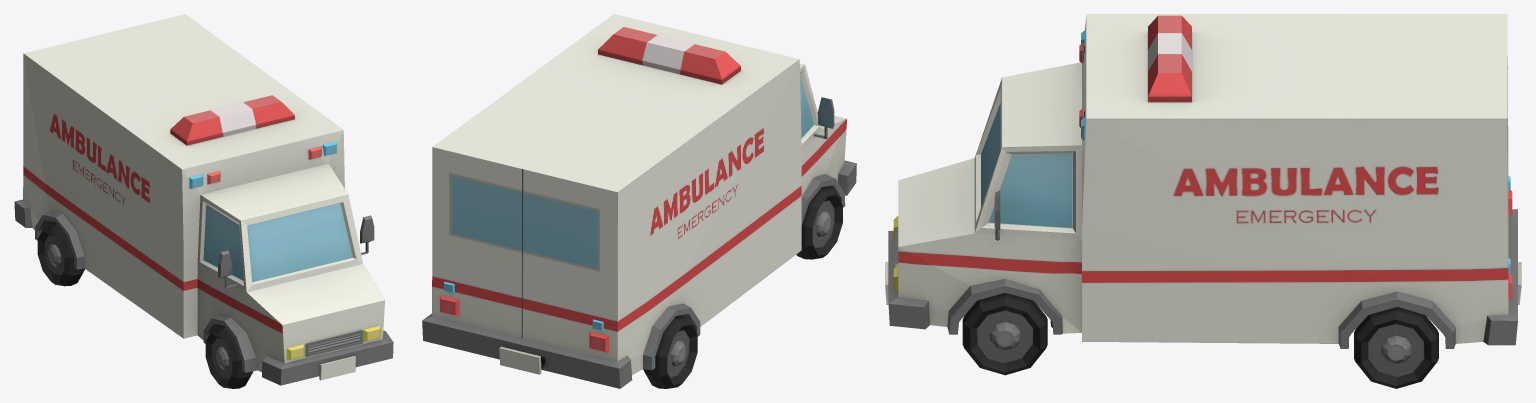
Rendered from ambulance.glb.
3 renders of one model, left to right at view 1: azimuth 30°, elevation 25°; view 2: azimuth 150°, elevation 25°; view 3: azimuth 270°, elevation 25°, orthographic. The views are drawn at different scales.
Parts seen in each view (by area): view 1: Ambulance_mesh; view 2: Ambulance_mesh; view 3: Ambulance_mesh.
Boxes of the visible parts, x1,y1,x2,y2 form: Ambulance_mesh: (14, 14, 393, 388); Ambulance_mesh: (422, 14, 856, 388); Ambulance_mesh: (885, 14, 1521, 388).
Size of the model in its own units: 2.53 by 2.74 by 5.5.
Materials: 1 (1 with a texture image).
